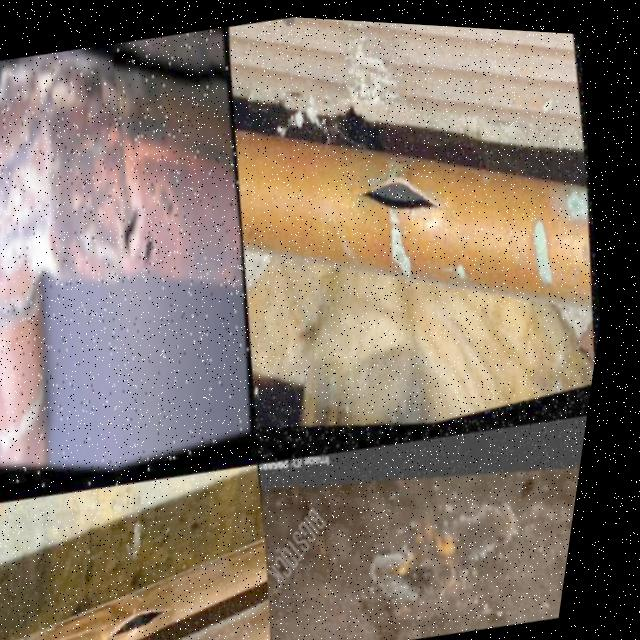hole: (114, 205, 159, 273), (146, 177, 189, 236), (139, 230, 169, 279)
rupture: (347, 141, 468, 240), (112, 592, 195, 640)
